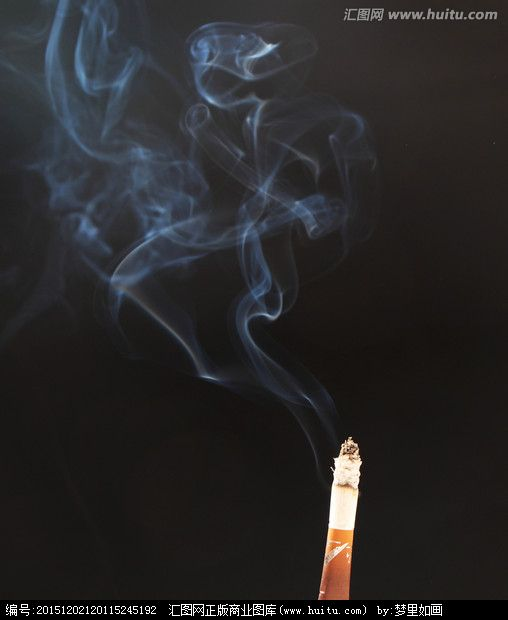smoke: (50, 2, 361, 418)
